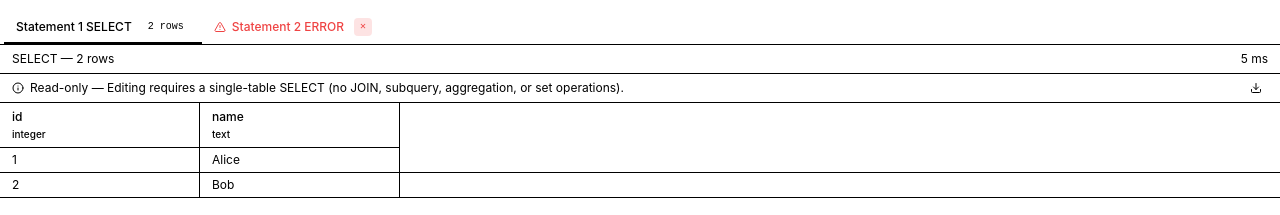
QueryResultGrid — multi-statement (sprint 100) › partial failure → error tab carries data-status='error' and reveals the error message
Press the mouse on the tab "Statement 2 ERROR ✕" at (293, 28), box [202,12,384,44]
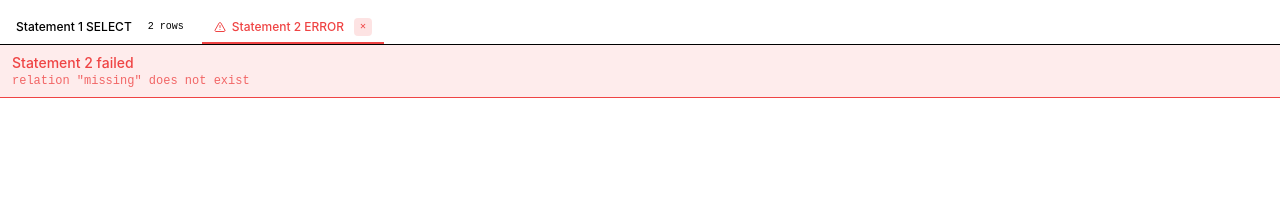
expect the message shows "Statement 2 failed": met, box [12,54,134,71]
expect the message shows "relation \"missing\" does not exist": met, box [12,74,250,88]
